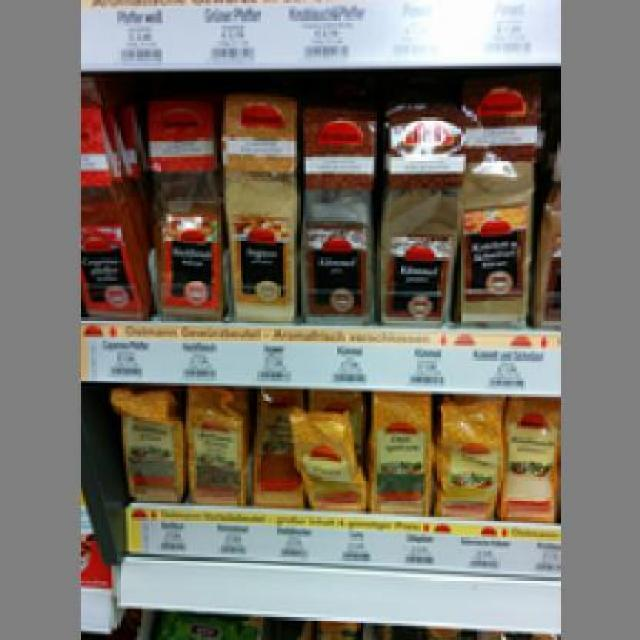Spices: (452, 89, 532, 318), (217, 94, 297, 317), (143, 94, 223, 314), (297, 108, 377, 321), (74, 86, 146, 314), (377, 102, 452, 318), (108, 386, 186, 500), (286, 403, 366, 506), (182, 386, 248, 503), (434, 394, 497, 512), (500, 397, 557, 520), (368, 392, 428, 508)
